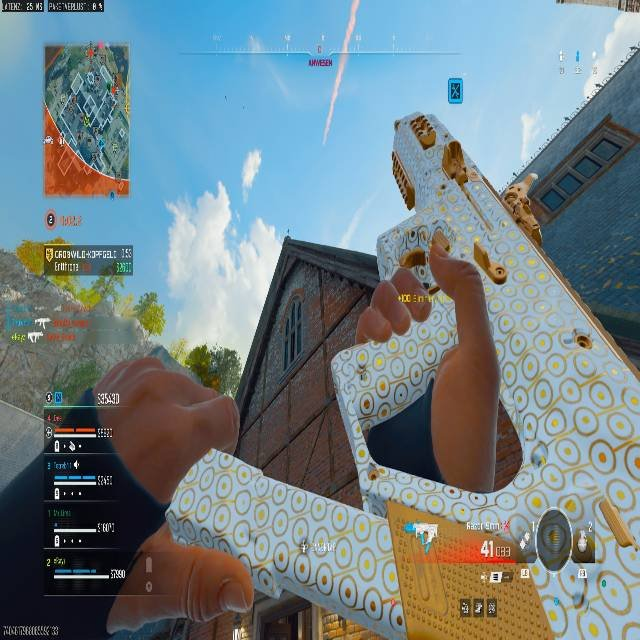head: (84, 356, 242, 508)
player: (81, 88, 640, 636), (330, 144, 511, 501)
